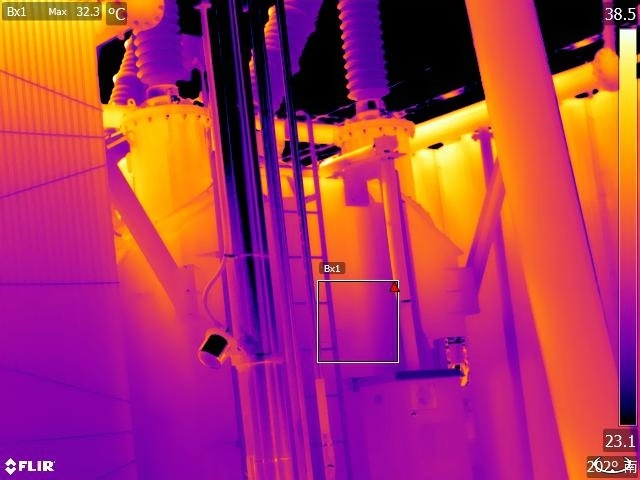transformer: (331, 84, 640, 480), (1, 1, 145, 479)
tube: (241, 1, 326, 116), (326, 1, 401, 112), (129, 1, 199, 86), (110, 23, 149, 103)
